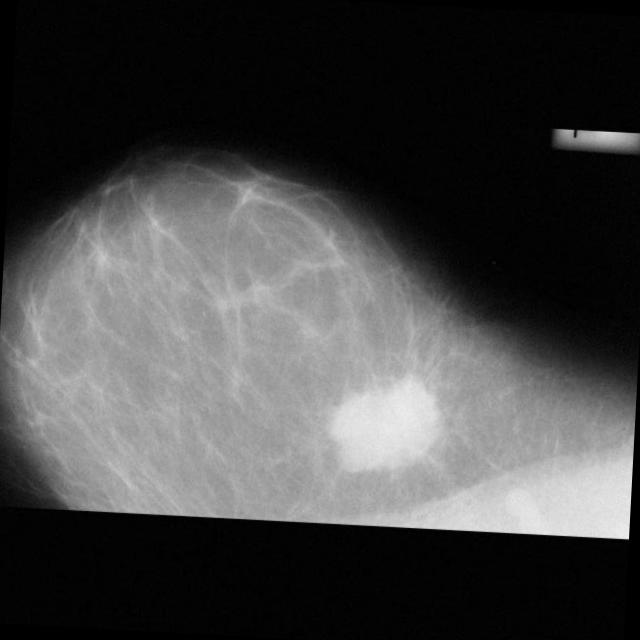SPIC: (310, 349, 459, 498)
